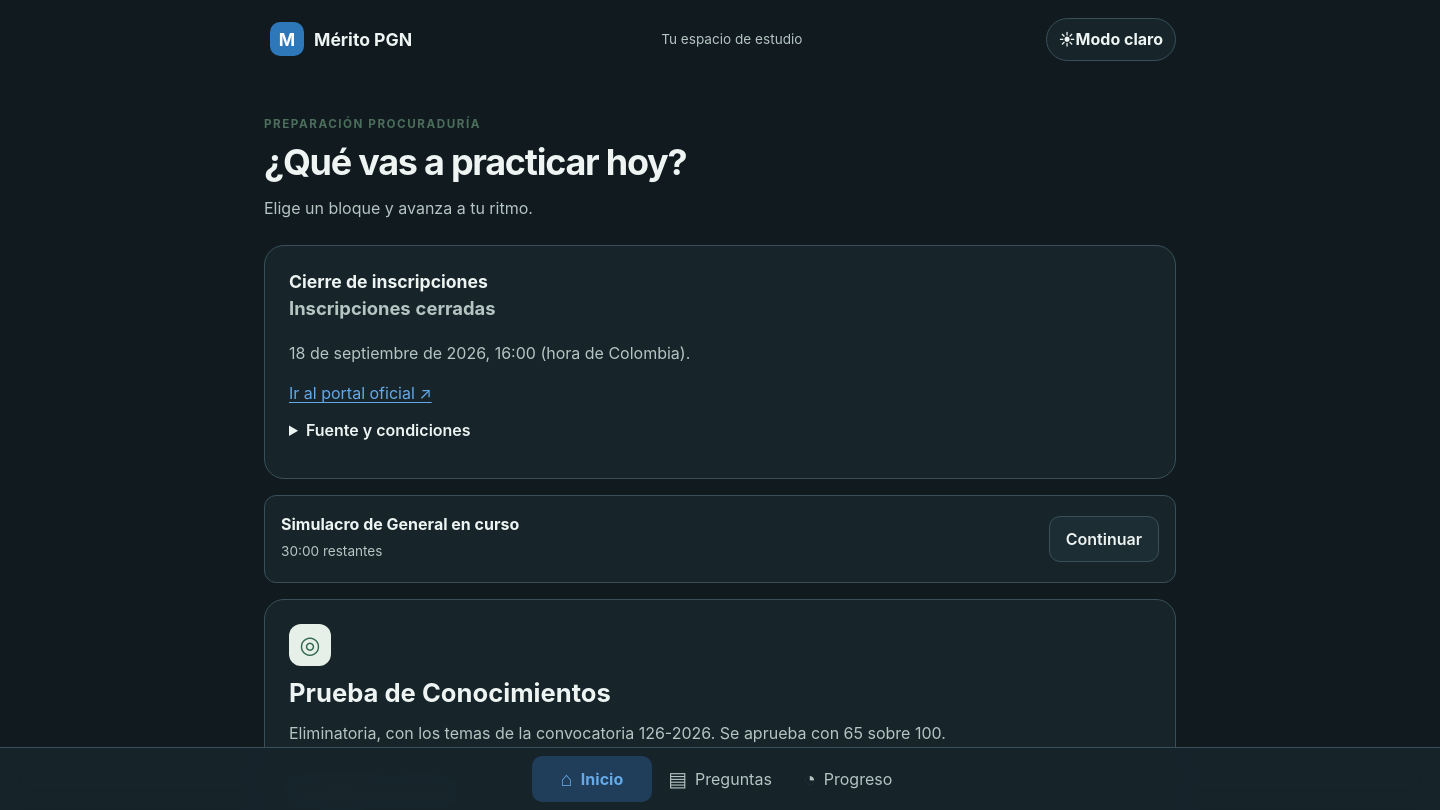
Test case: estudio y simuladores móviles › recupera sesión activa tras recargar y cierra las vencidas
Click the button "Continuar" at (1104, 539), box [1049, 516, 1159, 562]
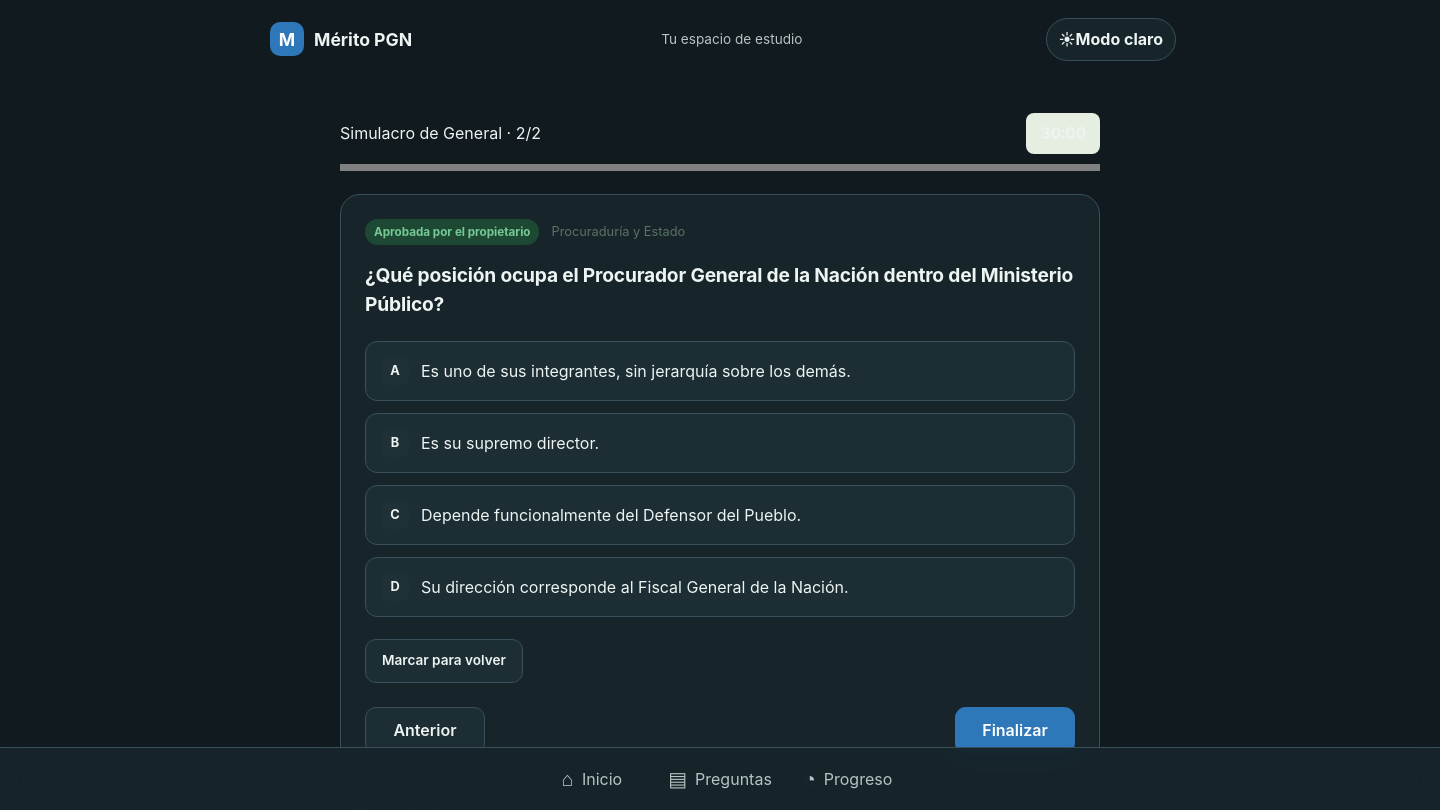
Result: the heading named "¿Qué posición ocupa el Procurador General de la Nación dentro del Ministerio Público?" is shown at [365, 261, 1075, 319]
